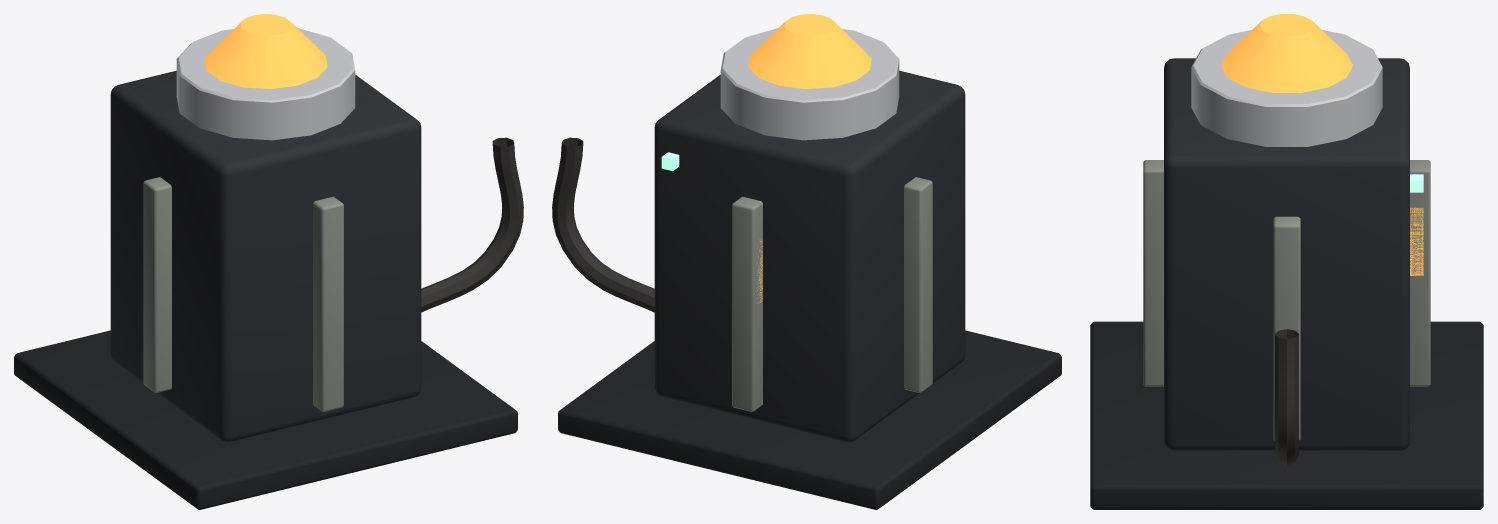
The model's file is core_terminus.glb.
3 views of the same model, side by side, from view 1: azimuth 30°, elevation 25°; view 2: azimuth 150°, elevation 25°; view 3: azimuth 270°, elevation 25° (orthographic). The views are drawn at different scales.
Parts seen in each view (by area): view 1: CoreBody, CorePad, CoreCollar, CoreDome, CoreRib3, CoreRib2, CoreFeed; view 2: CoreBody, CorePad, CoreCollar, CoreDome, CoreRib1, CoreRib2, CoreFeed; view 3: CoreBody, CorePad, CoreCollar, CoreDome, CoreRib3, CoreRib1, CoreRib0, CoreFeed, CoreSlit.
Boxes of the visible parts, left/top/right/bottom form: CoreBody: left=110, top=70, right=421, bottom=442; CorePad: left=14, top=330, right=517, bottom=509; CoreCollar: left=176, top=28, right=355, bottom=140; CoreDome: left=204, top=14, right=327, bottom=89; CoreRib3: left=313, top=196, right=343, bottom=411; CoreRib2: left=143, top=177, right=171, bottom=392; CoreFeed: left=421, top=137, right=523, bottom=312; CoreBody: left=654, top=70, right=965, bottom=442; CorePad: left=558, top=330, right=1061, bottom=509; CoreCollar: left=720, top=28, right=899, bottom=140; CoreDome: left=748, top=14, right=871, bottom=89; CoreRib1: left=732, top=196, right=762, bottom=411; CoreRib2: left=904, top=177, right=932, bottom=392; CoreFeed: left=552, top=137, right=654, bottom=312; CoreBody: left=1164, top=58, right=1409, bottom=450; CorePad: left=1090, top=321, right=1483, bottom=509; CoreCollar: left=1191, top=30, right=1382, bottom=146; CoreDome: left=1221, top=14, right=1352, bottom=92; CoreRib3: left=1143, top=160, right=1163, bottom=386; CoreRib1: left=1410, top=160, right=1430, bottom=386; CoreRib0: left=1273, top=216, right=1300, bottom=440; CoreFeed: left=1275, top=329, right=1298, bottom=465; CoreSlit: left=1410, top=207, right=1423, bottom=275.
Size of the model in its own units: 1.49 by 1.3 by 1.15.
